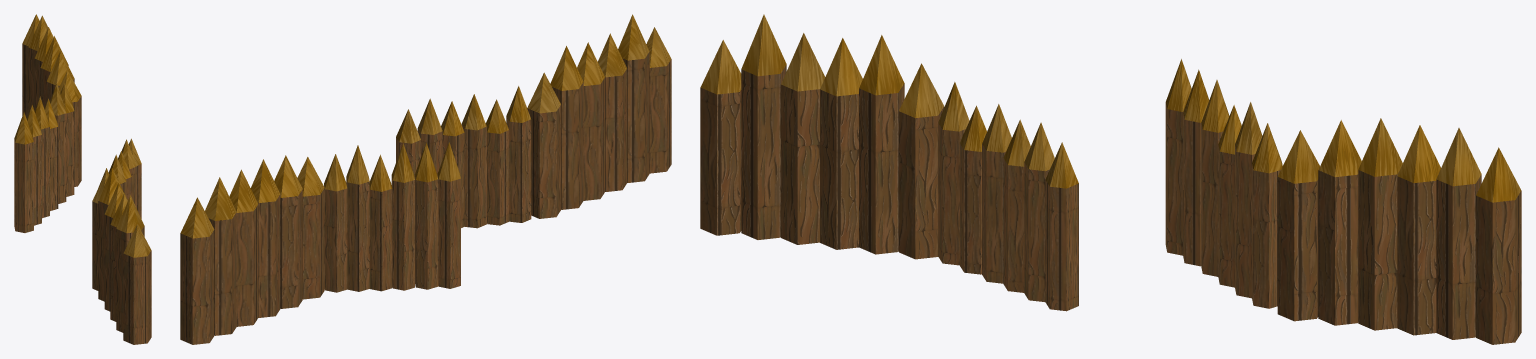
Rendered from farmhouse gate.fbx.
3 renders of one model, left to right at view 1: azimuth 30°, elevation 25°; view 2: azimuth 150°, elevation 25°; view 3: azimuth 270°, elevation 25°, orthographic. The views are drawn at different scales.
Visible parts, largest first — view 1: Cone.004, Cone.021, Cone.005, Cone.019, Cone.008, Cone.010, Cone.017, Cone.007, Cone.016, Cone.020, Cone.018, Cone.006 (+10 smaller); view 2: Cone.015, Cone.009, Cone.005, Cone.008, Cone.014, Cone.012, Cone.006, Cone.013, Cone.011, Cone.007, Cone.016, Cone.004 (+12 smaller); view 3: Cone.005, Cone.008, Cone.015, Cone.014, Cone.012, Cone.013, Cone.011, Cone.006, Cone.007, Cone.004, Cone.010, Cone.009 (+12 smaller).
Part boxes in pixels (left/top/right/bottom): Cone.004: left=123, top=224, right=151, bottom=344; Cone.021: left=14, top=112, right=33, bottom=232; Cone.005: left=116, top=195, right=144, bottom=332; Cone.019: left=50, top=83, right=66, bottom=203; Cone.008: left=98, top=168, right=123, bottom=301; Cone.010: left=58, top=70, right=81, bottom=186; Cone.017: left=34, top=96, right=49, bottom=218; Cone.007: left=104, top=183, right=123, bottom=311; Cone.016: left=27, top=105, right=41, bottom=225; Cone.020: left=60, top=83, right=74, bottom=196; Cone.018: left=44, top=98, right=58, bottom=210; Cone.006: left=110, top=193, right=127, bottom=321; Cone.015: left=180, top=197, right=214, bottom=344; Cone.009: left=527, top=72, right=561, bottom=218; Cone.005: left=618, top=14, right=649, bottom=182; Cone.008: left=550, top=46, right=583, bottom=209; Cone.014: left=205, top=177, right=236, bottom=335; Cone.012: left=250, top=159, right=280, bottom=317; Cone.006: left=598, top=33, right=627, bottom=191; Cone.013: left=229, top=169, right=258, bottom=326; Cone.011: left=274, top=155, right=302, bottom=308; Cone.007: left=577, top=42, right=604, bottom=200; Cone.016: left=414, top=142, right=438, bottom=289; Cone.004: left=646, top=27, right=671, bottom=173; Cone.005: left=741, top=14, right=786, bottom=239; Cone.008: left=859, top=35, right=904, bottom=254; Cone.015: left=1476, top=147, right=1521, bottom=344; Cone.014: left=1436, top=128, right=1481, bottom=339; Cone.012: left=1358, top=118, right=1402, bottom=330; Cone.013: left=1397, top=125, right=1440, bottom=335; Cone.011: left=1318, top=120, right=1361, bottom=325; Cone.006: left=781, top=33, right=825, bottom=244; Cone.007: left=820, top=38, right=862, bottom=249; Cone.004: left=700, top=40, right=741, bottom=235; Cone.010: left=1277, top=130, right=1319, bottom=321; Cone.009: left=899, top=63, right=944, bottom=259.
Size of the model in its own units: 1292 by 1017 by 3493.
